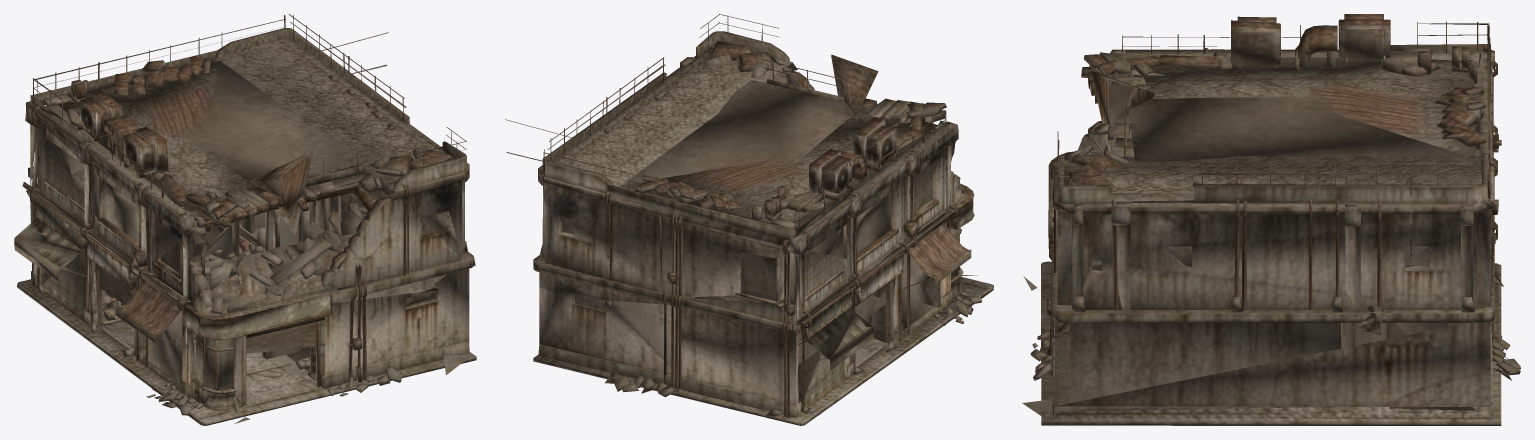
The model's file is reactor-city-storefront-row.glb.
3 views of the same model, side by side, from view 1: azimuth 30°, elevation 25°; view 2: azimuth 150°, elevation 25°; view 3: azimuth 270°, elevation 25° (orthographic). The views are drawn at different scales.
Parts seen in each view (by area): view 1: reactor-city-storefront-row; view 2: reactor-city-storefront-row; view 3: reactor-city-storefront-row.
Part boxes in pixels (<box>): reactor-city-storefront-row: <box>14,14,476,425</box>; reactor-city-storefront-row: <box>505,14,993,425</box>; reactor-city-storefront-row: <box>1022,14,1520,425</box>.
Size of the model in its own units: 13.13 by 8 by 13.41.
Materials: 1 (1 with a texture image).
